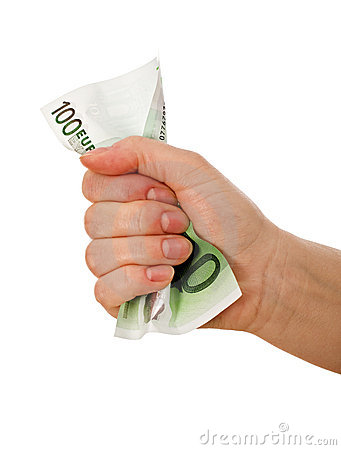billete: (41, 49, 242, 340)
